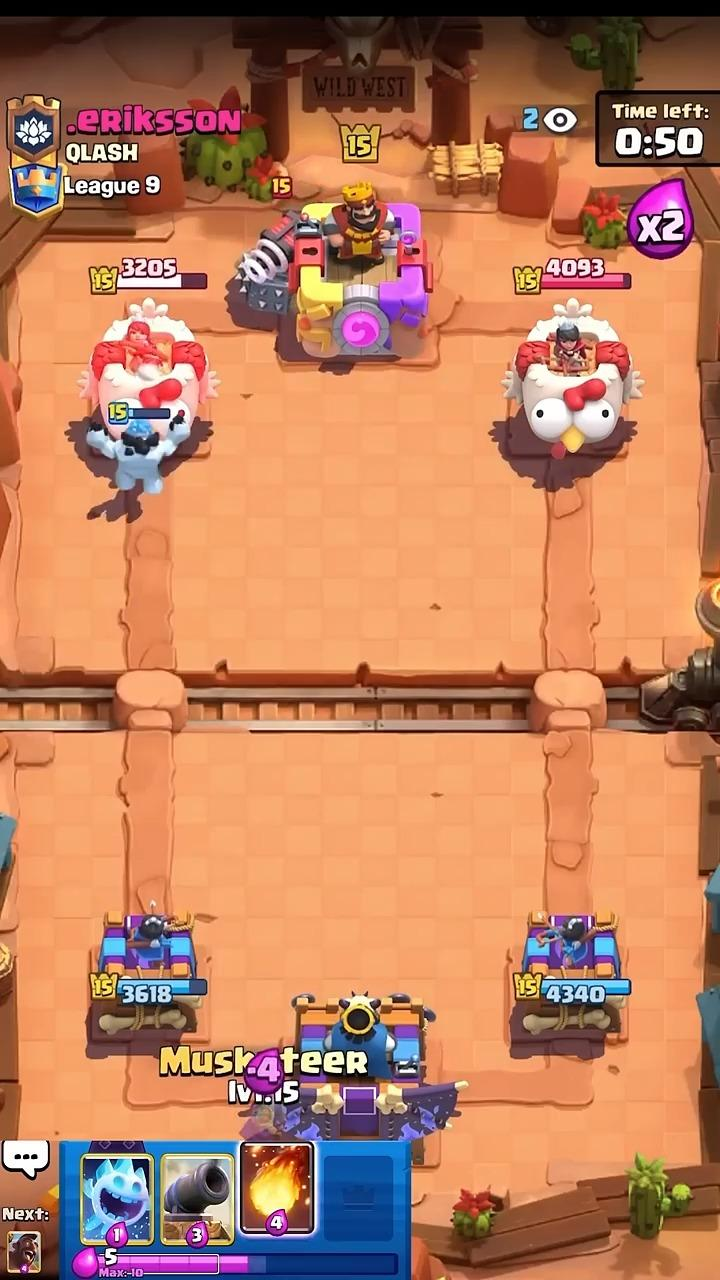ice golem: (89, 418, 175, 494)
sparky: (236, 210, 319, 313)
